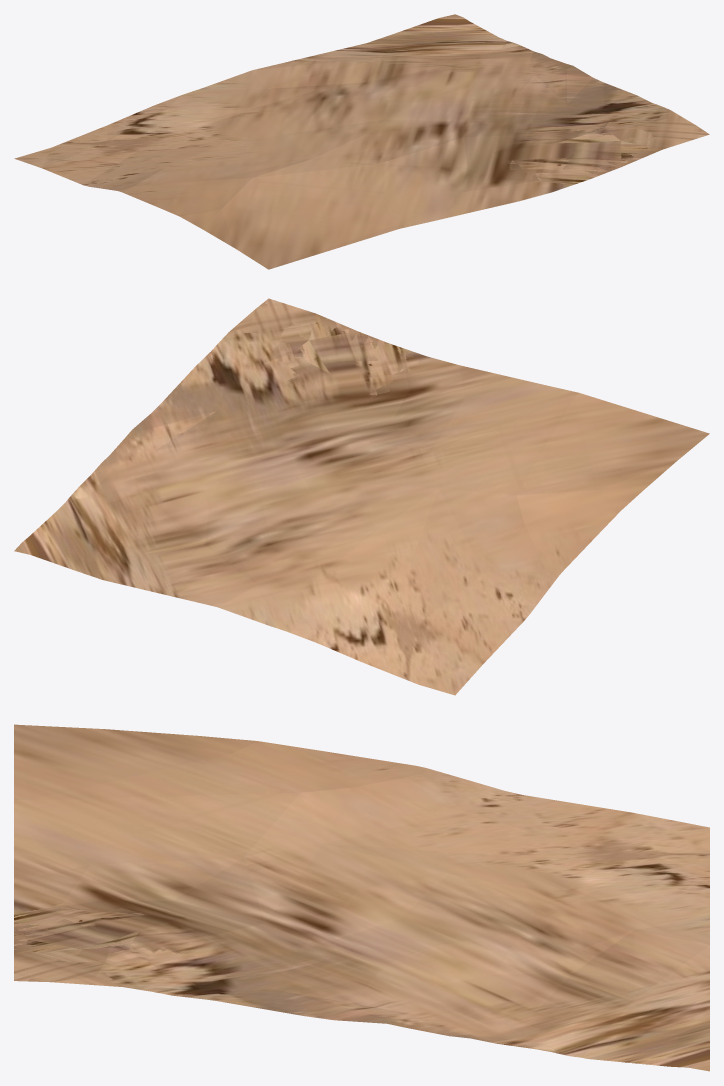
The picture shows the model from 3 angles, top to bottom: view 1: azimuth 30°, elevation 25°; view 2: azimuth 150°, elevation 25°; view 3: azimuth 270°, elevation 25°; orthographic projection. The views are drawn at different scales.
Bounding box in the file's own units: 1.04 × 0.2329 × 1.04.
2 materials, 2 textured.
